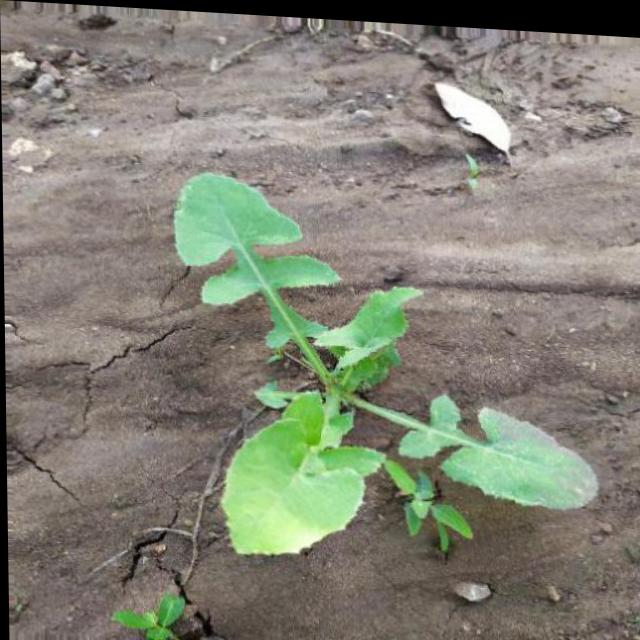weed: (168, 155, 602, 568)
